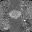people: (8, 9, 22, 19)
